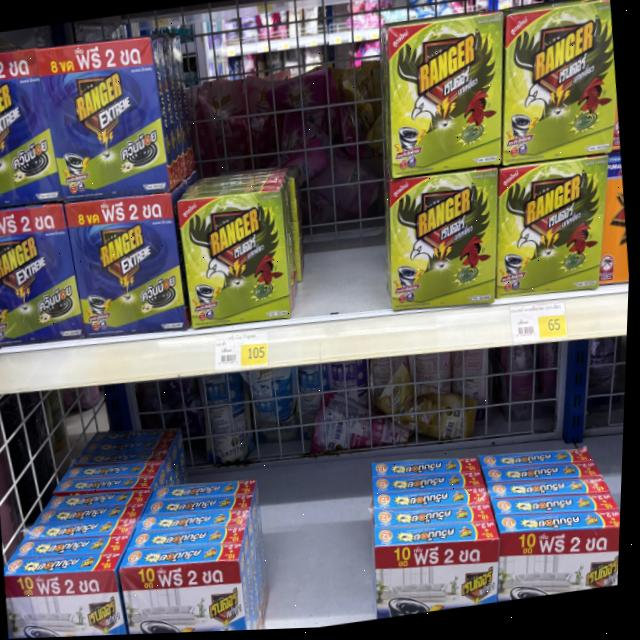empty_shelf: (370, 338, 620, 543), (0, 371, 244, 570), (248, 358, 376, 630), (282, 9, 393, 321), (160, 21, 284, 197)
